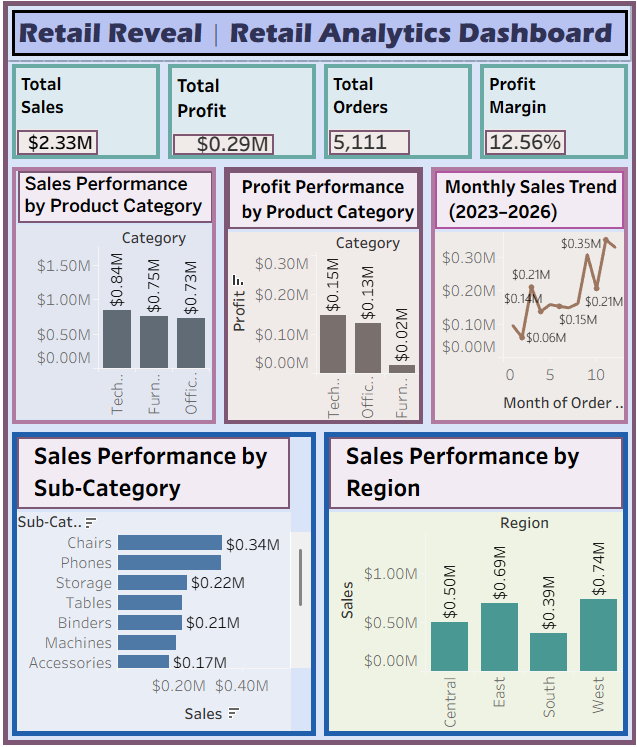

This screenshot's page, from the dashboard's own definition file:
{"tool":"tableau","page":{"name":"Retail Analytics Dashboard","canvas":[1000,1000],"units":"permille","ordinal":0},"visuals":[{"type":"title","box":[12.3,10.5,975.4,51.3]},{"type":"worksheet","title":"KPI - Total Sales","mark":"Automatic","box":[12.3,61.8,244.6,128.9]},{"type":"worksheet","title":"KPI - Total Profit","mark":"Automatic","box":[256.9,61.8,244.6,128.9]},{"type":"worksheet","title":"KPI - Total Orders","mark":"Automatic","box":[501.5,61.8,243.1,128.9]},{"type":"worksheet","title":"KPI - Profit Margin","mark":"Automatic","box":[744.6,61.8,243.1,128.9]},{"type":"worksheet","title":"Category Sales","mark":"Automatic","rows":["Sales"],"cols":["Category"],"box":[12.3,190.8,395.4,334.7]},{"type":"worksheet","title":"Category Profit","mark":"Bar","rows":["Profit"],"cols":["Category"],"box":[407.7,190.8,321.5,334.7]},{"type":"worksheet","title":"Monthly Sales Trend","mark":"Line","rows":["Sales"],"cols":["Order Date"],"box":[729.2,190.8,258.5,334.7]},{"type":"worksheet","title":"Sub-Category Sales","mark":"Bar","rows":["Sub-Category"],"cols":["Sales"],"box":[12.3,525.5,487.7,464]},{"type":"worksheet","title":"Regional Sales","mark":"Automatic","rows":["Sales"],"cols":["Region"],"box":[500,525.5,487.7,464]}]}

Visuals, with their boxes on the dashboard's canvas, which has no fixed pixel size, in thousandths of its width and height (x1, y1, x2, y2). These are canvas units, not pixel positions in the 637x747 screenshot, which may show the page scaled, cropped or inside an application window:
title: bbox=(12, 10, 988, 62)
"KPI - Total Sales" worksheet: bbox=(12, 62, 257, 191)
"KPI - Total Profit" worksheet: bbox=(257, 62, 502, 191)
"KPI - Total Orders" worksheet: bbox=(502, 62, 745, 191)
"KPI - Profit Margin" worksheet: bbox=(745, 62, 988, 191)
"Category Sales" worksheet: bbox=(12, 191, 408, 526)
"Category Profit" worksheet (Bar marks): bbox=(408, 191, 729, 526)
"Monthly Sales Trend" worksheet (Line marks): bbox=(729, 191, 988, 526)
"Sub-Category Sales" worksheet (Bar marks): bbox=(12, 526, 500, 990)
"Regional Sales" worksheet: bbox=(500, 526, 988, 990)
